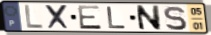E: (76, 5, 103, 31)
L: (105, 6, 128, 30), (24, 4, 45, 30)
N: (134, 5, 163, 32)
S: (162, 5, 188, 31)
X: (45, 4, 72, 31)
